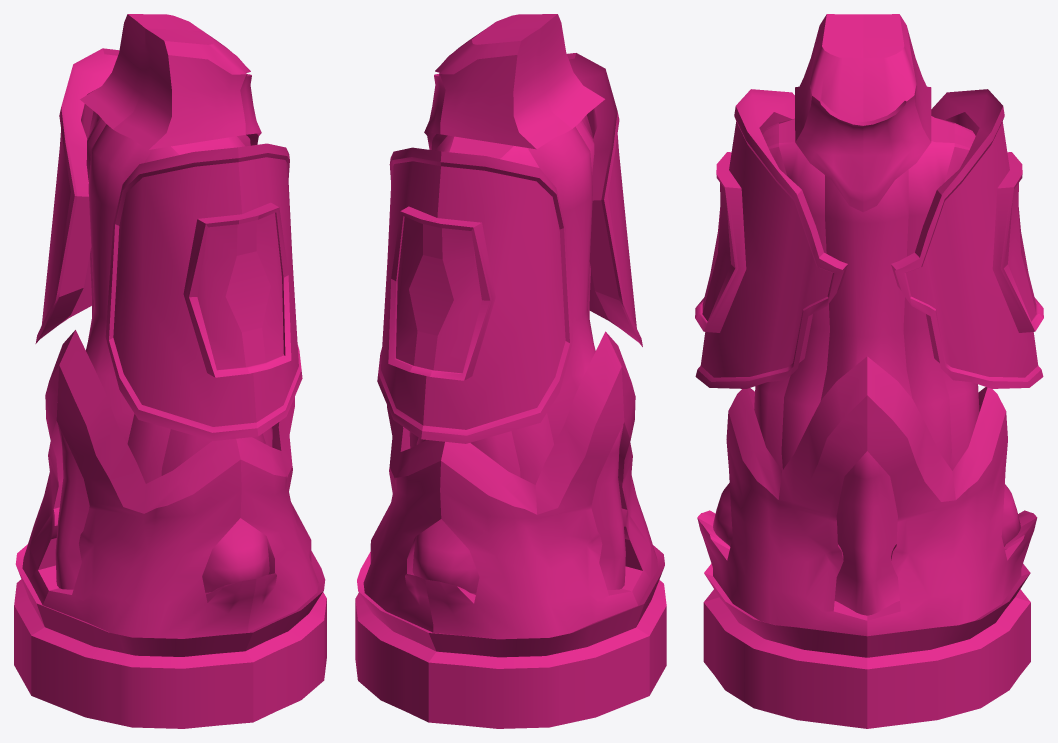
File: NUHUH.fbx
The picture shows the model from 3 angles, left to right: view 1: azimuth 30°, elevation 25°; view 2: azimuth 150°, elevation 25°; view 3: azimuth 270°, elevation 25°; orthographic projection.
Visible parts, largest first — view 1: Base.002, Side.002, Body.002, Helm.002; view 2: Base.002, Side.002, Body.002, Helm.002; view 3: Base.002, Side.002, Body.002, Helm.002.
Boxes of the visible parts, x1,y1,x2,y2 form: Base.002: [14, 330, 326, 728]; Side.002: [35, 48, 302, 440]; Body.002: [55, 111, 272, 592]; Helm.002: [80, 14, 261, 149]; Base.002: [355, 331, 666, 728]; Side.002: [377, 53, 642, 443]; Body.002: [409, 115, 625, 593]; Helm.002: [424, 14, 604, 149]; Base.002: [697, 356, 1037, 728]; Side.002: [695, 89, 1043, 388]; Body.002: [713, 116, 1020, 615]; Helm.002: [795, 14, 931, 212].
Size of the model in its own units: 116 by 257 by 128.
